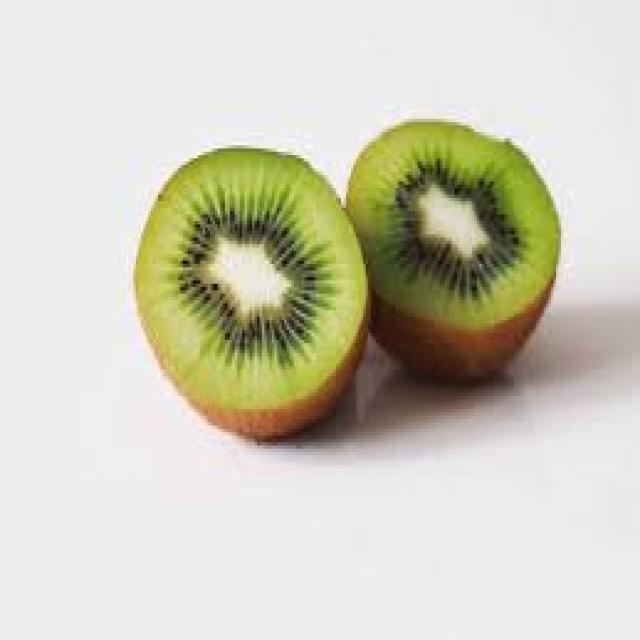kiwi: (140, 146, 368, 441), (346, 120, 561, 380)
